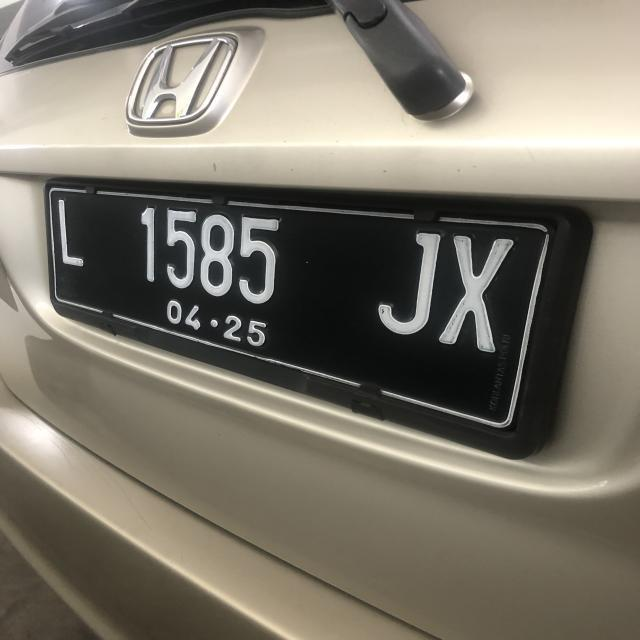1: (140, 206, 160, 278)
5: (236, 213, 281, 309), (164, 207, 199, 286)
8: (200, 205, 234, 298)
J: (376, 223, 440, 339)
L: (52, 196, 95, 269)
X: (436, 234, 513, 350)
